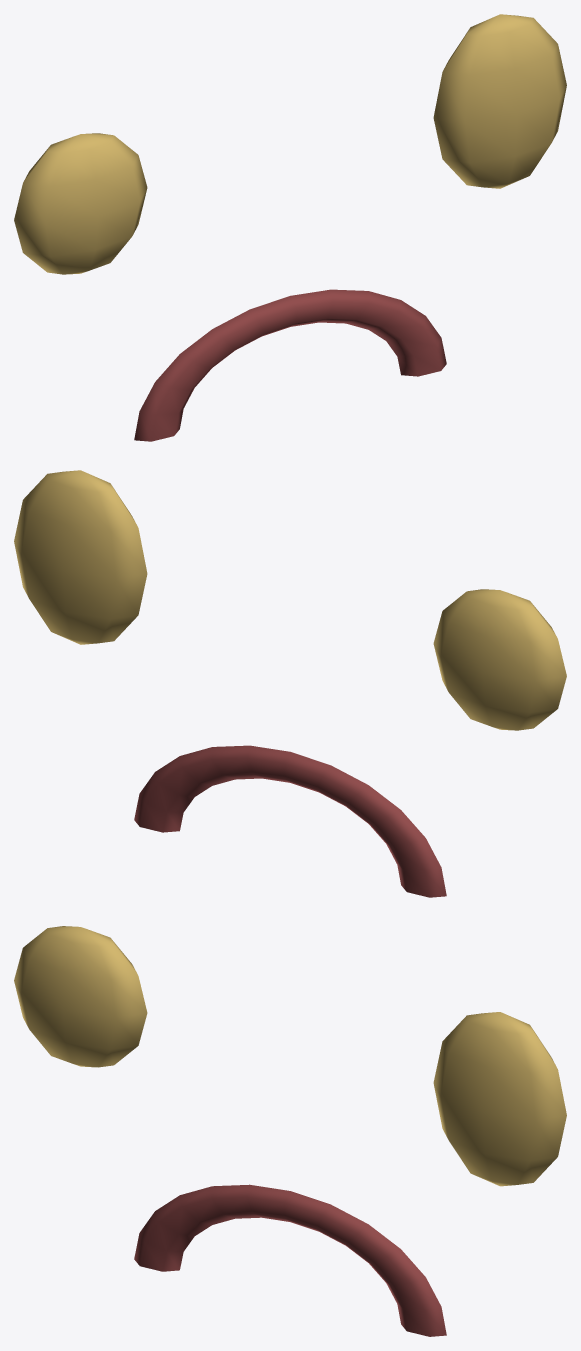
File: child_01_face.glb
3 renders of one model, top to bottom at view 1: azimuth 30°, elevation 25°; view 2: azimuth 150°, elevation 25°; view 3: azimuth 330°, elevation 25°, orthographic.
Visible parts, largest first — view 1: eye_r, eye_l, mouth; view 2: eye_r, eye_l, mouth; view 3: eye_r, eye_l, mouth.
Boxes of the visible parts, x1,y1,x2,y2 form: eye_r: (433,14,566,188); eye_l: (14,133,147,274); mouth: (134,289,446,441); eye_r: (14,470,147,644); eye_l: (433,589,566,730); mouth: (134,745,446,897); eye_r: (433,1012,566,1186); eye_l: (14,926,147,1067); mouth: (134,1184,446,1336).
Size of the model in its own units: 0.29 by 0.1688 by 0.0315.
